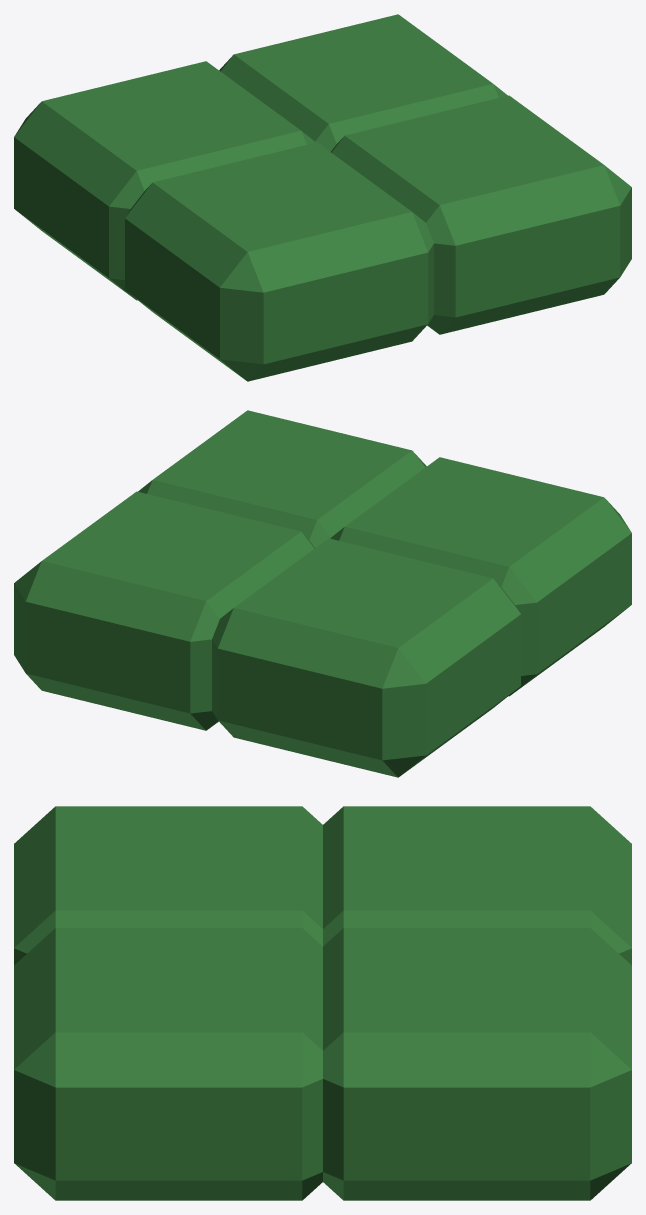
File: m_kub_dung_flat_four.fbx
3 renders of one model, top to bottom at view 1: azimuth 30°, elevation 25°; view 2: azimuth 150°, elevation 25°; view 3: azimuth 270°, elevation 25°, orthographic. The views are drawn at different scales.
Visible parts, largest first — view 1: m_kub_dung_flat_four; view 2: m_kub_dung_flat_four; view 3: m_kub_dung_flat_four.
Boxes of the visible parts, x1,y1,x2,y2 form: m_kub_dung_flat_four: [14, 14, 631, 381]; m_kub_dung_flat_four: [14, 410, 631, 777]; m_kub_dung_flat_four: [14, 806, 631, 1200].
Size of the model in its own units: 2.15 by 0.6453 by 2.15.
